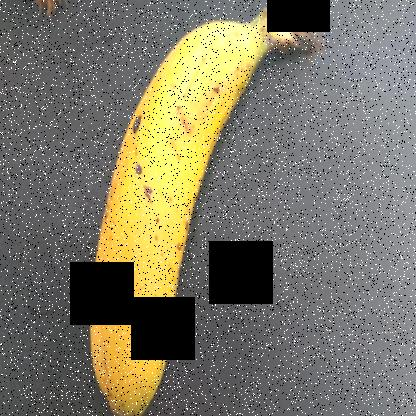ripe: (81, 1, 275, 405)
